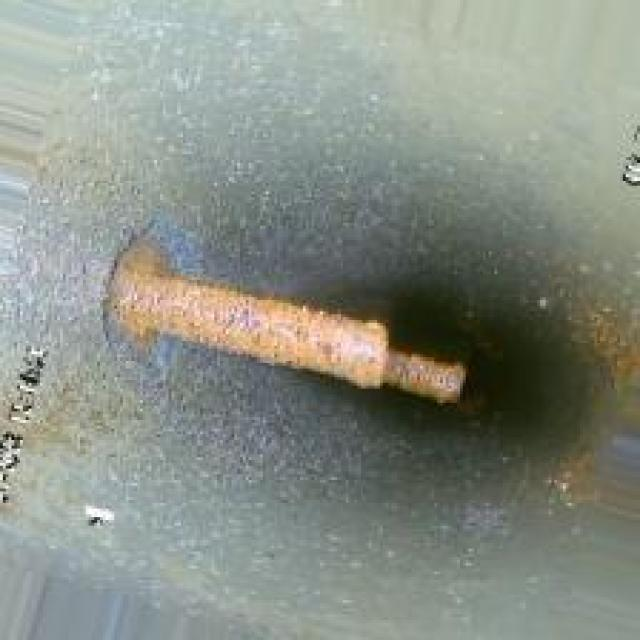ferrule: (94, 226, 480, 400)
